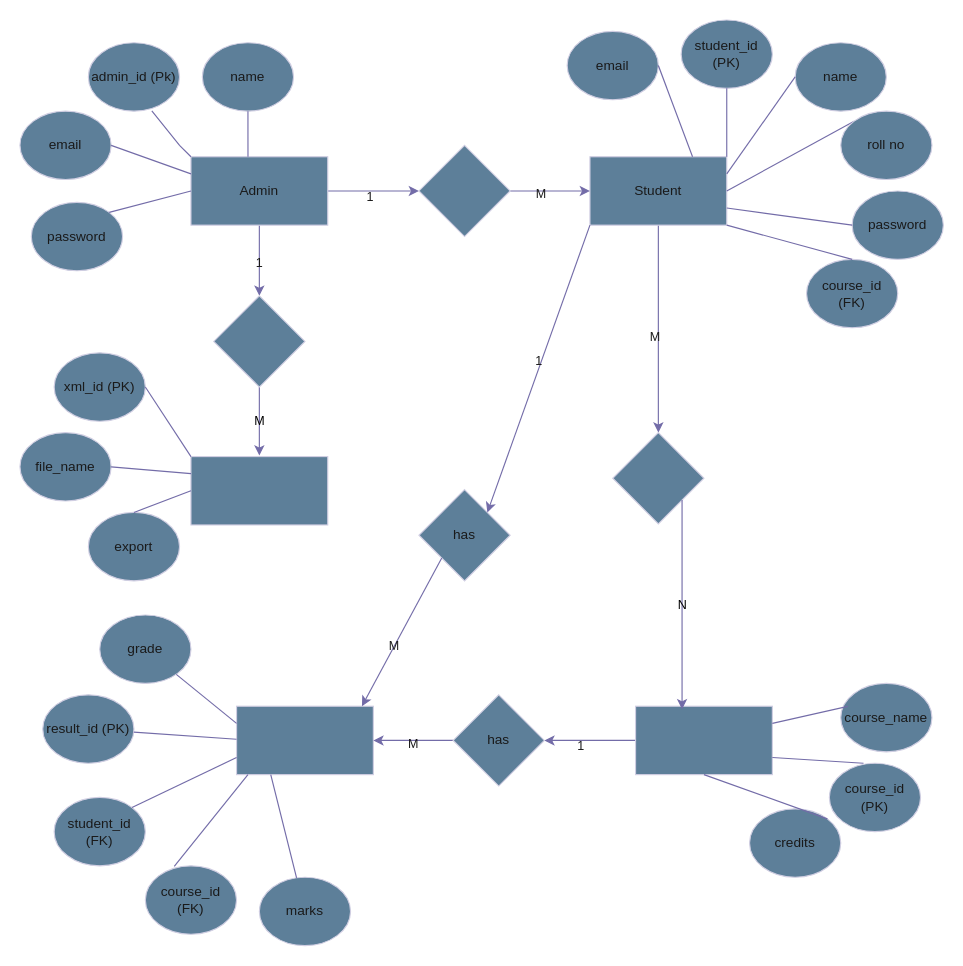
Image size: 963x966. Some labels were removed from this diagram. Each missing label, with the centre of its shape:
"Course" belongs at [703,740].
"enrolled" belongs at [658,477].
"exports" belongs at [259,341].
"manages" belongs at [464,190].
"Result" belongs at [304,740].
"XML_File" belongs at [259,490].
